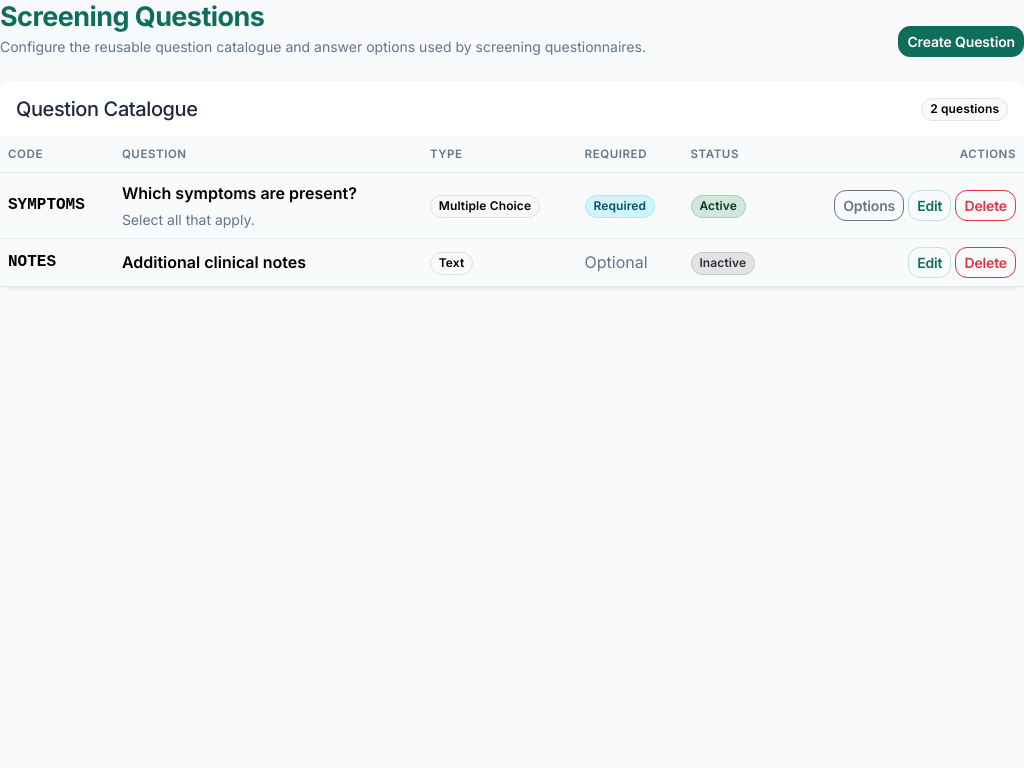
Test: ScreeningQuestionsPage › edits only the mutable question fields
Click the button with aria-label "Edit SYMPTOMS". click: (930, 205)
box: [908,190,952,221]
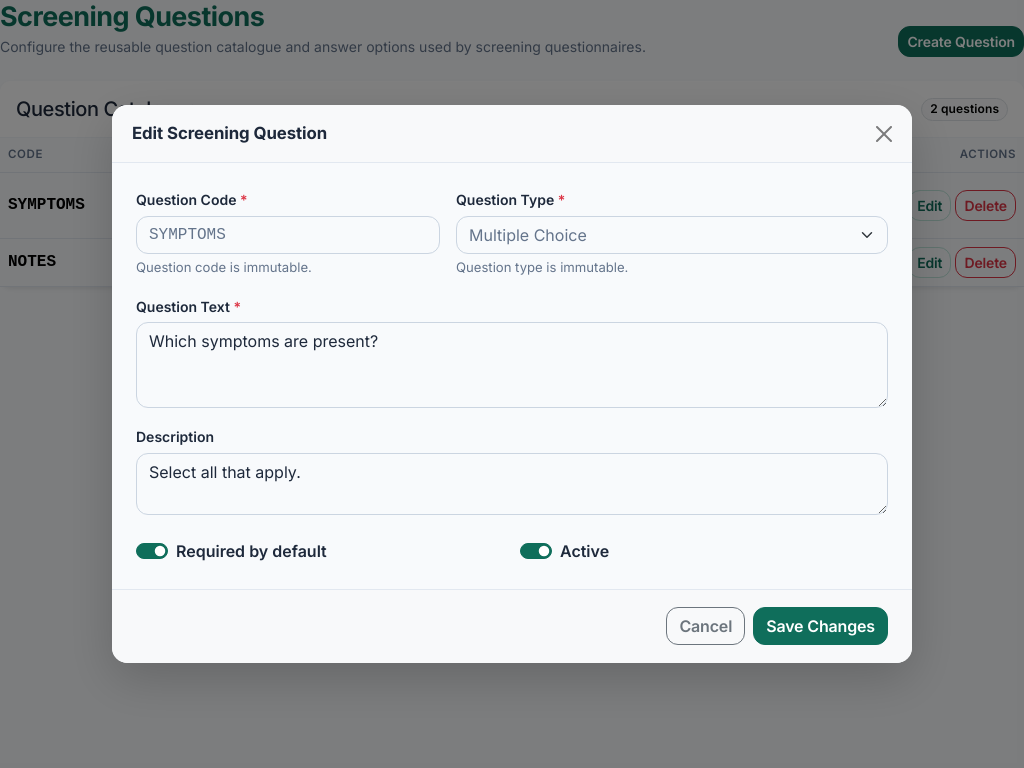
Replace the text in the text box labelled "Question Text *" with "Which current symptoms are present?". click: (512, 365)
box: [136,322,888,408]
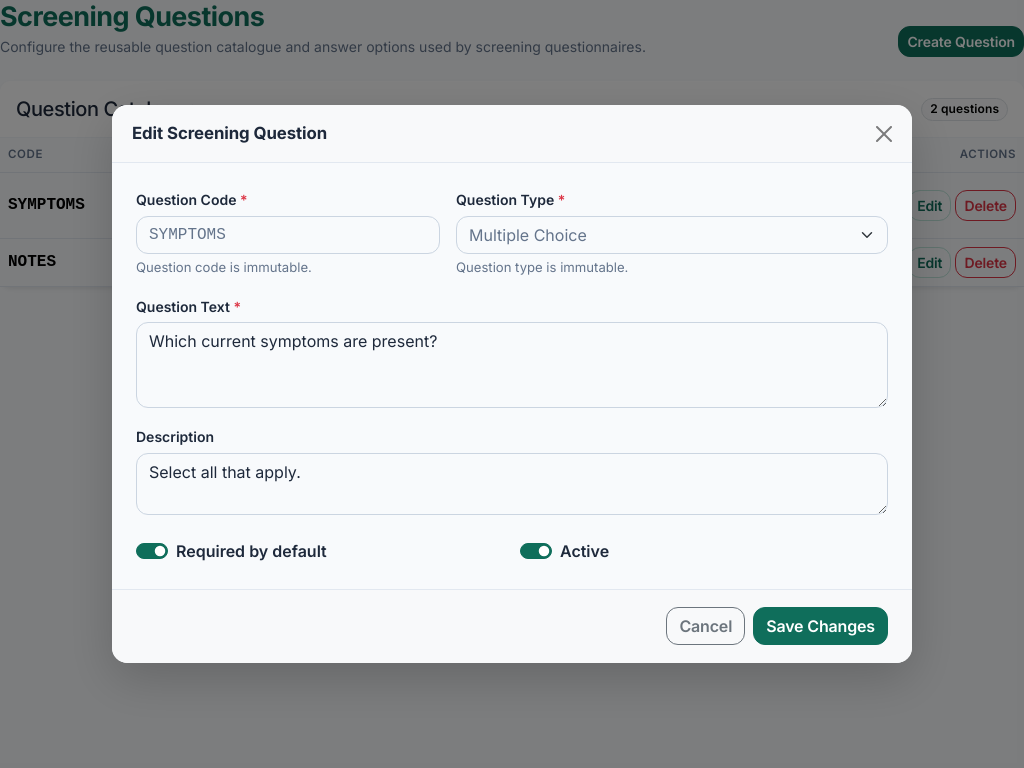
Click the checkbox labelled "Required by default". click: (152, 551)
box: [136,543,168,559]
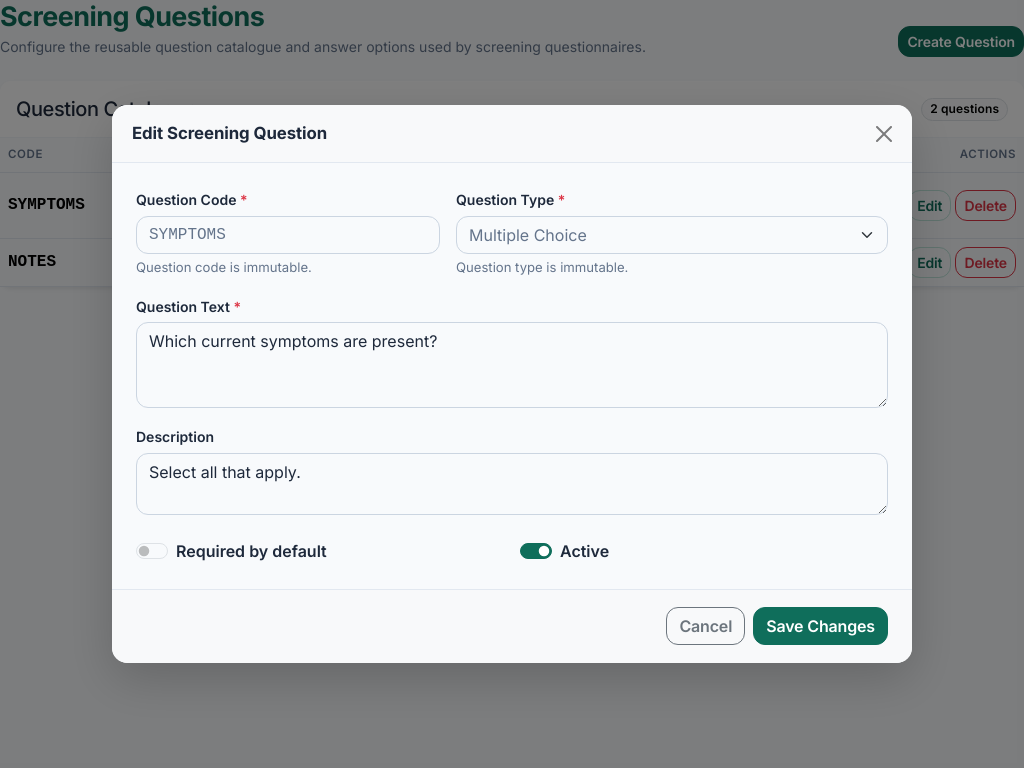
Click the button "Save Changes". click: (821, 626)
box: [753,607,888,645]
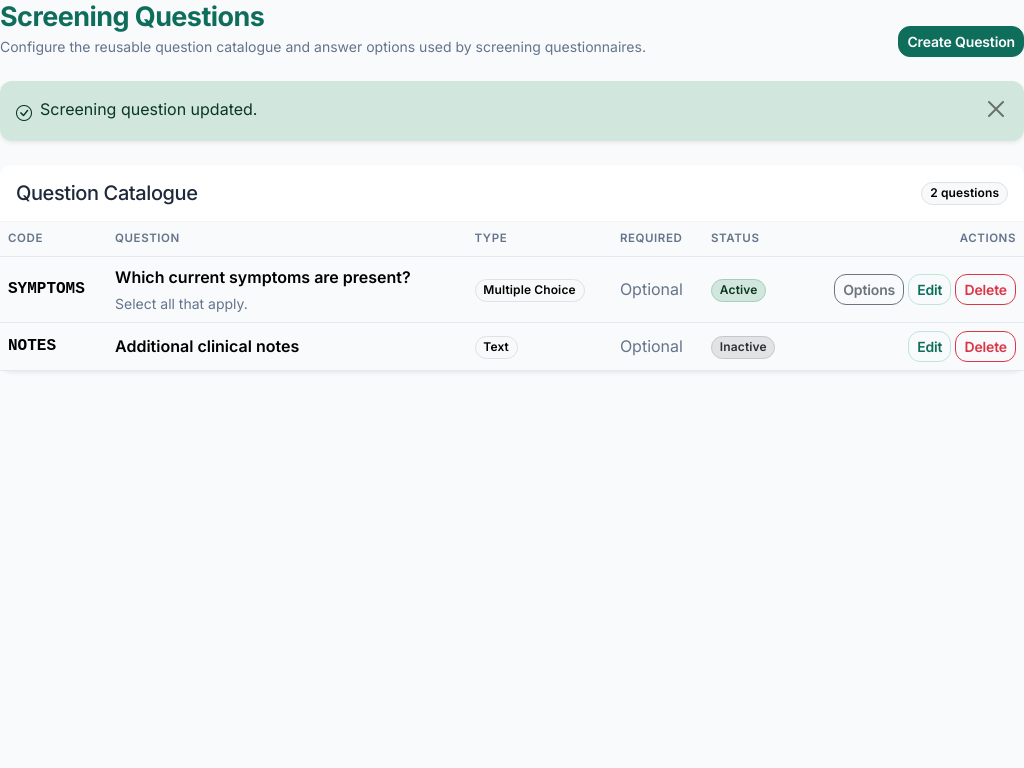
Expected: the text "Which current symptoms are present?" is shown, [115,265,459,289]
